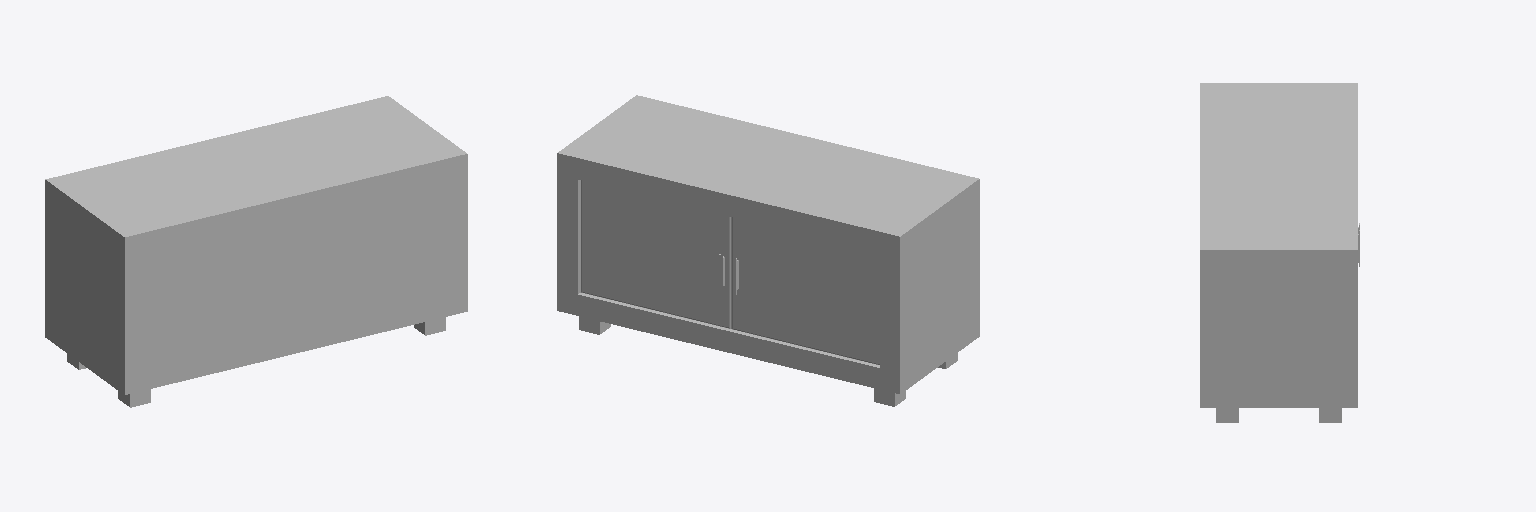
File: cabinet_small.obj
3 views of the same model, side by side, from view 1: azimuth 30°, elevation 25°; view 2: azimuth 150°, elevation 25°; view 3: azimuth 270°, elevation 25° (orthographic).
Visible parts, largest first — view 1: Cube, Cube.001; view 2: Cube, Cube.002, Cube.001; view 3: Cube, Cube.001.
Part boxes in pixels (left/top/right/bottom): Cube: left=45, top=96, right=467, bottom=394; Cube.001: left=67, top=317, right=445, bottom=407; Cube: left=557, top=95, right=979, bottom=394; Cube.002: left=581, top=180, right=879, bottom=364; Cube.001: left=579, top=316, right=957, bottom=406; Cube: left=1200, top=83, right=1357, bottom=407; Cube.001: left=1216, top=408, right=1341, bottom=422.
Bounding box in the file's own units: 1 × 0.5 × 0.405.